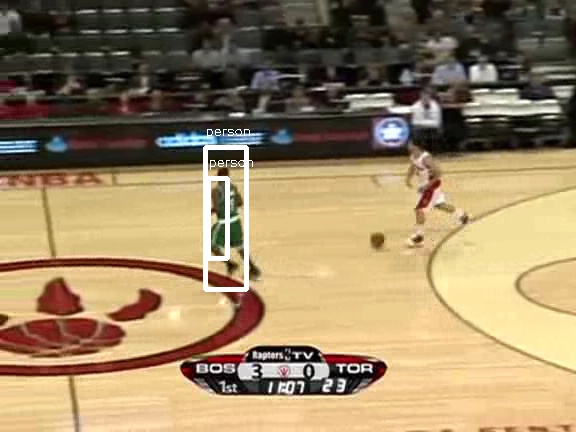person: (212, 176, 246, 257), (211, 176, 245, 257), (213, 176, 247, 257), (212, 175, 246, 256), (212, 177, 246, 258)
target_negative: (304, 3, 447, 378), (163, 349, 490, 419), (428, 234, 493, 361), (557, 24, 574, 45), (493, 280, 496, 356), (459, 298, 486, 300)
